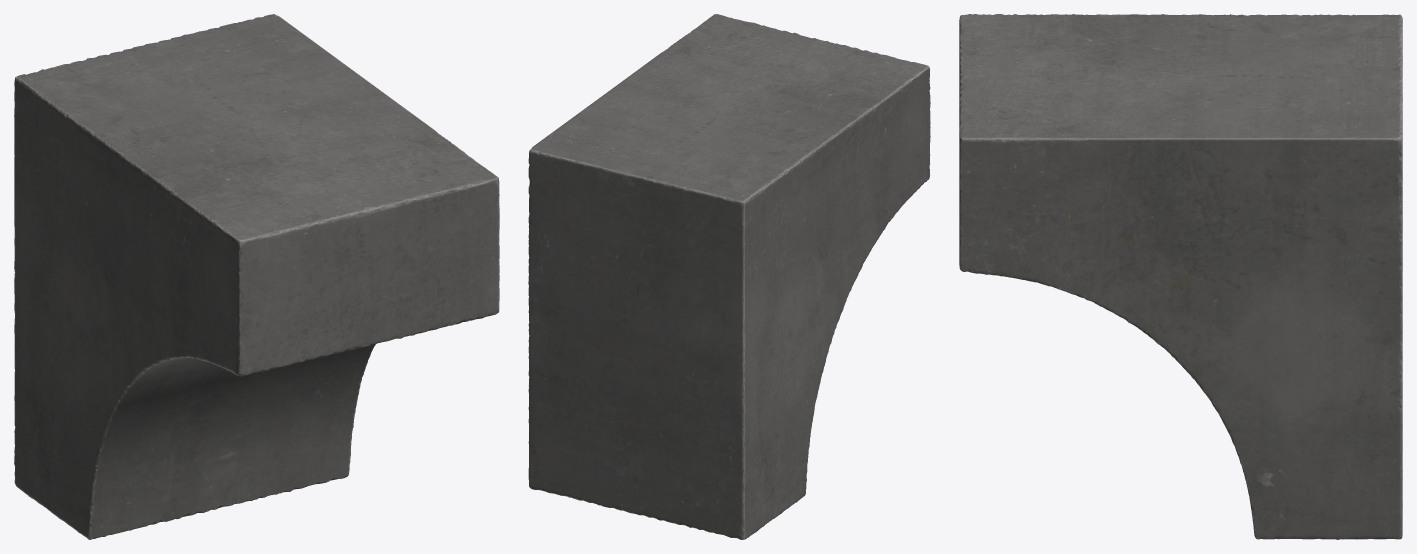
The model's file is SM_Sewer_Wall_Arch_01a.fbx.
3 views of the same model, side by side, from view 1: azimuth 30°, elevation 25°; view 2: azimuth 150°, elevation 25°; view 3: azimuth 270°, elevation 25° (orthographic). The views are drawn at different scales.
Parts seen in each view (by area): view 1: SM_Sewer_Wall_Arch_01a_LOD0; view 2: SM_Sewer_Wall_Arch_01a_LOD0; view 3: SM_Sewer_Wall_Arch_01a_LOD0.
Part boxes in pixels (x1,y1,x2,y2): SM_Sewer_Wall_Arch_01a_LOD0: [14, 14, 499, 539]; SM_Sewer_Wall_Arch_01a_LOD0: [528, 14, 930, 539]; SM_Sewer_Wall_Arch_01a_LOD0: [959, 14, 1402, 539].
Bounding box in the file's own units: 200 × 300 × 300.
